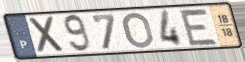4: (157, 8, 183, 49)
7: (90, 12, 118, 51)
9: (63, 13, 93, 54)
E: (177, 8, 220, 47)
O: (122, 11, 157, 50)
X: (27, 14, 67, 55)
